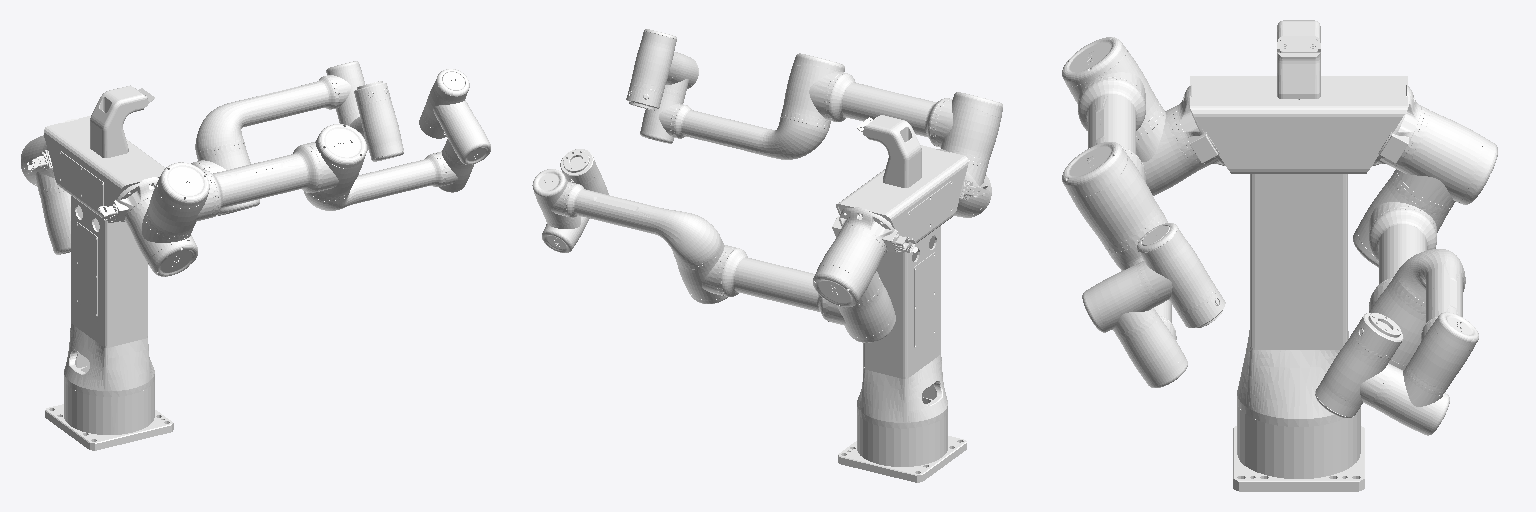
URDF robot description (dual_jaka_zu5):
<?xml version="1.0" encoding="utf-8"?>
<!-- =================================================================================== -->
<!-- |    This document was autogenerated by xacro from dual_zu5.xacro                 | -->
<!-- |    EDITING THIS FILE BY HAND IS NOT RECOMMENDED                                 | -->
<!-- =================================================================================== -->
<robot name="dual_jaka_zu5">
  <!-- DUAL ZU5 -->
  <link name="world"/>
  <joint name="world_joint" type="fixed">
    <parent link="world"/>
    <child link="base_footprint"/>
    <origin rpy="0 0 0" xyz="0 0 0"/>
  </joint>
  <link name="base_footprint">
    <!--
    <xacro:box_inertial_matrix m="200" w ="1" h="0.01" d="1" />
    <visual>
      <origin xyz="0 0 0" rpy="0 0 0" />
      <geometry>
        <box size = "1 1 0.01" />
      </geometry>
      <material name="" />
    </visual>
    <collision>
        <geometry>
          <box size="0 0 0"/>
        </geometry>
        <origin rpy="0 0 0" xyz="0 0 0"/>
      </collision>
-->
  </link>
  <link name="arm_body_link">
    <inertial>
      <origin rpy="0 0 0" xyz="0.0023805 -8.69209997657022E-09 0.38265"/>
      <mass value="26.908"/>
      <inertia ixx="1.9969" ixy="5.78330000000082E-06" ixz="-0.013305" iyy="1.9121" iyz="-9.59990001016968E-08" izz="0.25121"/>
    </inertial>
    <visual>
      <origin rpy="1.5707963267949 0 0" xyz="0 0 0"/>
      <geometry>
        <mesh filename="package://jaka_description/meshes/dual_arm_body.STL"/>
      </geometry>
      <material name="">
        <color rgba="1 1 1 1"/>
      </material>
    </visual>
    <collision>
        <origin rpy="0 0 0.43" xyz="0 0 0"/>
        <geometry>
            <box size="0.17 0.15 0.86" />
        </geometry>
    </collision>
<!--
    <collision>
      <origin rpy="1.5707963267949 0 0" xyz="0 0 0"/>
      <geometry>
        <mesh filename="package://jaka_description/meshes/dual_arm_body.STL"/>
      </geometry>
    </collision>
-->
  </link>
  <joint name="arm_body_joint" type="fixed">
    <origin rpy="0 0 0" xyz="0 0 0"/>
    <parent link="base_footprint"/>
    <child link="arm_body_link"/>
  </joint>
  <gazebo reference="arm_body_link">
    <material>Gazebo/Green</material>
    <turnGravityOff>false</turnGravityOff>
  </gazebo>
  <link name="l_arm_base_link">
    <inertial>
      <origin rpy="0 0 0" xyz="0.00096495 6.33210000011972E-08 0.019553"/>
      <mass value="0.5146"/>
      <inertia ixx="0.00062137" ixy="-1.25310000000002E-08" ixz="3.2162E-06" iyy="0.00086635" iyz="1.01950000029785E-10" izz="0.0013528"/>
    </inertial>
    <visual>
      <origin rpy="1.5707963267949 0 0" xyz="0 0 0"/>
      <geometry>
        <mesh filename="package://jaka_description/meshes/jaka_zu5_meshes/link_0.STL"/>
      </geometry>
      <material name="">
        <color rgba="1 1 1 1"/>
      </material>
    </visual>
    <collision>
      <origin rpy="1.5707963267949 0 0" xyz="0 0 0"/>
      <geometry>
        <mesh filename="package://jaka_description/meshes/jaka_zu5_meshes/link_0.STL"/>
      </geometry>
    </collision>
  </link>
  <joint name="l_arm_base_joint" type="fixed">
    <origin rpy="-1.047 3.1415926 0" xyz="0 0.149 0.65"/>
    <parent link="arm_body_link"/>
    <child link="l_arm_base_link"/>
    <axis xyz="0 0 0"/>
  </joint>
  <link name="l_shoulder_pan_link">
    <inertial>
      <origin rpy="0 0 0" xyz="5.1683E-07 -0.0033223 -0.001511"/>
      <mass value="1.9282"/>
      <inertia ixx="0.0056433" ixy="5.7032E-08" ixz="-6.2225E-08" iyy="0.0054898" iyz="2.0134999999999E-06" izz="0.0038887"/>
    </inertial>
    <visual>
      <origin rpy="1.5707963267949 0 0" xyz="0 0 0"/>
      <geometry>
        <mesh filename="package://jaka_description/meshes/jaka_zu5_meshes/link_1.STL"/>
      </geometry>
      <material name="">
        <color rgba="1 1 1 1"/>
      </material>
    </visual>
    <collision>
      <origin rpy="1.5707963267949 0 0" xyz="0 0 0"/>
      <geometry>
        <mesh filename="package://jaka_description/meshes/jaka_zu5_meshes/link_1.STL"/>
      </geometry>
    </collision>
  </link>
  <joint name="l_shoulder_pan_joint" type="continuous">
    <origin rpy="0 0 0" xyz="0 0 0.12015"/>
    <parent link="l_arm_base_link"/>
    <child link="l_shoulder_pan_link"/>
    <axis xyz="0 0 1"/>
    <limit effort="49" lower="-3" upper="3" velocity="1"/>
  </joint>
  <link name="l_shoulder_lift_link">
    <inertial>
      <origin rpy="0 0 0" xyz="-0.215 -2.05689999912349E-08 0.14315"/>
      <mass value="5.8409"/>
      <inertia ixx="0.013221" ixy="4.5164E-07" ixz="-4.5411E-08" iyy="0.20339" iyz="-3.02220000002149E-08" izz="0.19988"/>
    </inertial>
    <visual>
      <origin rpy="1.5707963267949 0 0" xyz="0 0 0"/>
      <geometry>
        <mesh filename="package://jaka_description/meshes/jaka_zu5_meshes/link_2.STL"/>
      </geometry>
      <material name="">
        <color rgba="1 1 1 1"/>
      </material>
    </visual>
    <collision>
      <origin rpy="1.5707963267949 0 0" xyz="0 0 0"/>
      <geometry>
        <mesh filename="package://jaka_description/meshes/jaka_zu5_meshes/link_2.STL"/>
      </geometry>
    </collision>
  </link>
  <joint name="l_shoulder_lift_joint" type="continuous">
    <origin rpy="1.57079 0 0" xyz="0 0 0"/>
    <parent link="l_shoulder_pan_link"/>
    <child link="l_shoulder_lift_link"/>
    <axis xyz="0 0 -1"/>
    <limit effort="49" lower="-3" upper="3" velocity="1"/>
  </joint>
  <link name="l_elbow_link">
    <inertial>
      <origin rpy="0 0 0" xyz="-0.19088 -3.84559999999352E-07 0.010588"/>
      <mass value="2.3018"/>
      <inertia ixx="0.0028116" ixy="2.56400000000176E-07" ixz="-0.0028806" iyy="0.053035" iyz="-6.48900000004372E-09" izz="0.052321"/>
    </inertial>
    <visual>
      <origin rpy="1.5707963267949 0 0" xyz="0 0 0"/>
      <geometry>
        <mesh filename="package://jaka_description/meshes/jaka_zu5_meshes/link_3.STL"/>
      </geometry>
      <material name="">
        <color rgba="1 1 1 1"/>
      </material>
    </visual>
    <collision>
      <origin rpy="1.5707963267949 0 0" xyz="0 0 0"/>
      <geometry>
        <mesh filename="package://jaka_description/meshes/jaka_zu5_meshes/link_3.STL"/>
      </geometry>
    </collision>
  </link>
  <joint name="l_elbow_joint" type="continuous">
    <origin rpy="0 0 0" xyz="-0.430 0 0"/>
    <parent link="l_shoulder_lift_link"/>
    <child link="l_elbow_link"/>
    <axis xyz="0 0 -1"/>
    <limit effort="49" lower="-3" upper="3" velocity="1"/>
  </joint>
  <link name="l_wrist_1_link">
    <inertial>
      <origin rpy="0 0 0" xyz="4.1023E-07 -0.0057996 -0.0026718"/>
      <mass value="0.70739"/>
      <inertia ixx="0.0011791" ixy="5.5084E-09" ixz="1.4807E-09" iyy="0.00066568" iyz="-1.0639E-05" izz="0.0011425"/>
    </inertial>
    <visual>
      <origin rpy="1.5707963267949 0 0" xyz="0 0 0"/>
      <geometry>
        <mesh filename="package://jaka_description/meshes/jaka_zu5_meshes/link_4.STL"/>
      </geometry>
      <material name="">
        <color rgba="1 1 1 1"/>
      </material>
    </visual>
    <collision>
      <origin rpy="1.5707963267949 0 0" xyz="0 0 0"/>
      <geometry>
        <mesh filename="package://jaka_description/meshes/jaka_zu5_meshes/link_4.STL"/>
      </geometry>
    </collision>
  </link>
  <joint name="l_wrist_1_joint" type="continuous">
    <origin rpy="0 0 0" xyz="-0.3685 0 0.114"/>
    <parent link="l_elbow_link"/>
    <child link="l_wrist_1_link"/>
    <axis xyz="0 0 -1"/>
    <limit effort="11" lower="-3" upper="3" velocity="1"/>
  </joint>
  <link name="l_wrist_2_link">
    <inertial>
      <origin rpy="0 0 0" xyz="-3.0743E-08 -0.0028896 -0.0023422"/>
      <mass value="0.80693"/>
      <inertia ixx="0.001655" ixy="1.0299E-08" ixz="-1.2235E-08" iyy="0.0007447" iyz="-5.79109999999995E-06" izz="0.0016178"/>
    </inertial>
    <visual>
      <origin rpy="1.5707963267949 0 0" xyz="0 0 0"/>
      <geometry>
        <mesh filename="package://jaka_description/meshes/jaka_zu5_meshes/link_5.STL"/>
      </geometry>
      <material name="">
        <color rgba="1 1 1 1"/>
      </material>
    </visual>
    <collision>
      <origin rpy="1.5707963267949 0 0" xyz="0 0 0"/>
      <geometry>
        <mesh filename="package://jaka_description/meshes/jaka_zu5_meshes/link_5.STL"/>
      </geometry>
    </collision>
  </link>
  <joint name="l_wrist_2_joint" type="continuous">
    <origin rpy="1.57079 3.1415926 0" xyz="0 -0.1135 0"/>
    <parent link="l_wrist_1_link"/>
    <child link="l_wrist_2_link"/>
    <axis xyz="0 0 1"/>
    <limit effort="11" lower="-3" upper="3" velocity="1"/>
  </joint>
  <link name="l_wrist_3_link">
    <inertial>
      <origin rpy="0 0 0" xyz="-2.7624E-05 1.34819999999987E-05 -0.021245"/>
      <mass value="0.1805"/>
      <inertia ixx="9.1533E-05" ixy="-8.8776E-08" ixz="8.1265E-08" iyy="9.2197E-05" iyz="1.05880000000003E-07" izz="0.00014442"/>
    </inertial>
    <visual>
      <origin rpy="1.5707963267949 0 0" xyz="0 0 0"/>
      <geometry>
        <mesh filename="package://jaka_description/meshes/jaka_zu5_meshes/link_6.STL"/>
      </geometry>
      <material name="">
        <color rgba="1 1 1 1"/>
      </material>
    </visual>
    <collision>
      <origin rpy="1.5707963267949 0 0" xyz="0 0 0"/>
      <geometry>
        <mesh filename="package://jaka_description/meshes/jaka_zu5_meshes/link_6.STL"/>
      </geometry>
    </collision>
  </link>
  <joint name="l_wrist_3_joint" type="continuous">
    <origin rpy="-1.57079 0 0" xyz="0 0.107 0"/>
    <parent link="l_wrist_2_link"/>
    <child link="l_wrist_3_link"/>
    <axis xyz="0 0 1"/>
    <limit effort="11" lower="-3" upper="3" velocity="1"/>
  </joint>
  <transmission name="l_shoulder_pan_joint_trans">
    <type>transmission_interface/SimpleTransmission</type>
    <joint name="l_shoulder_pan_joint">
      <hardwareInterface>hardware_interface/PositionJointInterface</hardwareInterface>
    </joint>
    <actuator name="l_shoulder_pan_joint_motor">
      <hardwareInterface>hardware_interface/PositionJointInterface</hardwareInterface>
      <mechanicalReduction>1</mechanicalReduction>
    </actuator>
  </transmission>
  <transmission name="l_shoulder_lift_joint_trans">
    <type>transmission_interface/SimpleTransmission</type>
    <joint name="l_shoulder_lift_joint">
      <hardwareInterface>hardware_interface/PositionJointInterface</hardwareInterface>
    </joint>
    <actuator name="l_shoulder_lift_joint_motor">
      <hardwareInterface>hardware_interface/PositionJointInterface</hardwareInterface>
      <mechanicalReduction>1</mechanicalReduction>
    </actuator>
  </transmission>
  <transmission name="l_elbow_joint_trans">
    <type>transmission_interface/SimpleTransmission</type>
    <joint name="l_elbow_joint">
      <hardwareInterface>hardware_interface/PositionJointInterface</hardwareInterface>
    </joint>
    <actuator name="l_elbow_joint_motor">
      <hardwareInterface>hardware_interface/PositionJointInterface</hardwareInterface>
      <mechanicalReduction>1</mechanicalReduction>
    </actuator>
  </transmission>
  <transmission name="l_wrist_1_joint_trans">
    <type>transmission_interface/SimpleTransmission</type>
    <joint name="l_wrist_1_joint">
      <hardwareInterface>hardware_interface/PositionJointInterface</hardwareInterface>
    </joint>
    <actuator name="l_wrist_1_joint_motor">
      <hardwareInterface>hardware_interface/PositionJointInterface</hardwareInterface>
      <mechanicalReduction>1</mechanicalReduction>
    </actuator>
  </transmission>
  <transmission name="l_wrist_2_joint_trans">
    <type>transmission_interface/SimpleTransmission</type>
    <joint name="l_wrist_2_joint">
      <hardwareInterface>hardware_interface/PositionJointInterface</hardwareInterface>
    </joint>
    <actuator name="l_wrist_2_joint_motor">
      <hardwareInterface>hardware_interface/PositionJointInterface</hardwareInterface>
      <mechanicalReduction>1</mechanicalReduction>
    </actuator>
  </transmission>
  <transmission name="l_wrist_3_joint_trans">
    <type>transmission_interface/SimpleTransmission</type>
    <joint name="l_wrist_3_joint">
      <hardwareInterface>hardware_interface/PositionJointInterface</hardwareInterface>
    </joint>
    <actuator name="l_wrist_3_joint_motor">
      <hardwareInterface>hardware_interface/PositionJointInterface</hardwareInterface>
      <mechanicalReduction>1</mechanicalReduction>
    </actuator>
  </transmission>
  <!-- ros_control plugin -->
  <gazebo>
    <plugin filename="libgazebo_ros_control.so" name="gazebo_ros_control">
      <robotNamespace>/l_zu5</robotNamespace>
      <robotSimType>gazebo_ros_control/DefaultRobotHWSim</robotSimType>
      <legacyModeNS>true</legacyModeNS>
    </plugin>
  </gazebo>
  <link name="r_arm_base_link">
    <inertial>
      <origin rpy="0 0 0" xyz="0.00096495 6.33210000011972E-08 0.019553"/>
      <mass value="0.5146"/>
      <inertia ixx="0.00062137" ixy="-1.25310000000002E-08" ixz="3.2162E-06" iyy="0.00086635" iyz="1.01950000029785E-10" izz="0.0013528"/>
    </inertial>
    <visual>
      <origin rpy="1.5707963267949 0 0" xyz="0 0 0"/>
      <geometry>
        <mesh filename="package://jaka_description/meshes/jaka_zu5_meshes/link_0.STL"/>
      </geometry>
      <material name="">
        <color rgba="1 1 1 1"/>
      </material>
    </visual>
    <collision>
      <origin rpy="1.5707963267949 0 0" xyz="0 0 0"/>
      <geometry>
        <mesh filename="package://jaka_description/meshes/jaka_zu5_meshes/link_0.STL"/>
      </geometry>
    </collision>
  </link>
  <joint name="r_arm_base_joint" type="fixed">
    <origin rpy="1.047 3.1415926 0" xyz="0 -0.149 0.65"/>
    <parent link="arm_body_link"/>
    <child link="r_arm_base_link"/>
    <axis xyz="0 0 0"/>
  </joint>
  <link name="r_shoulder_pan_link">
    <inertial>
      <origin rpy="0 0 0" xyz="5.1683E-07 -0.0033223 -0.001511"/>
      <mass value="1.9282"/>
      <inertia ixx="0.0056433" ixy="5.7032E-08" ixz="-6.2225E-08" iyy="0.0054898" iyz="2.0134999999999E-06" izz="0.0038887"/>
    </inertial>
    <visual>
      <origin rpy="1.5707963267949 0 0" xyz="0 0 0"/>
      <geometry>
        <mesh filename="package://jaka_description/meshes/jaka_zu5_meshes/link_1.STL"/>
      </geometry>
      <material name="">
        <color rgba="1 1 1 1"/>
      </material>
    </visual>
    <collision>
      <origin rpy="1.5707963267949 0 0" xyz="0 0 0"/>
      <geometry>
        <mesh filename="package://jaka_description/meshes/jaka_zu5_meshes/link_1.STL"/>
      </geometry>
    </collision>
  </link>
  <joint name="r_shoulder_pan_joint" type="continuous">
    <origin rpy="0 0 0" xyz="0 0 0.12015"/>
    <parent link="r_arm_base_link"/>
    <child link="r_shoulder_pan_link"/>
    <axis xyz="0 0 1"/>
    <limit effort="49" lower="-3" upper="3" velocity="1"/>
  </joint>
  <link name="r_shoulder_lift_link">
    <inertial>
      <origin rpy="0 0 0" xyz="-0.215 -2.05689999912349E-08 0.14315"/>
      <mass value="5.8409"/>
      <inertia ixx="0.013221" ixy="4.5164E-07" ixz="-4.5411E-08" iyy="0.20339" iyz="-3.02220000002149E-08" izz="0.19988"/>
    </inertial>
    <visual>
      <origin rpy="1.5707963267949 0 0" xyz="0 0 0"/>
      <geometry>
        <mesh filename="package://jaka_description/meshes/jaka_zu5_meshes/link_2.STL"/>
      </geometry>
      <material name="">
        <color rgba="1 1 1 1"/>
      </material>
    </visual>
    <collision>
      <origin rpy="1.5707963267949 0 0" xyz="0 0 0"/>
      <geometry>
        <mesh filename="package://jaka_description/meshes/jaka_zu5_meshes/link_2.STL"/>
      </geometry>
    </collision>
  </link>
  <joint name="r_shoulder_lift_joint" type="continuous">
    <origin rpy="1.57079 0 0" xyz="0 0 0"/>
    <parent link="r_shoulder_pan_link"/>
    <child link="r_shoulder_lift_link"/>
    <axis xyz="0 0 -1"/>
    <limit effort="49" lower="-3" upper="3" velocity="1"/>
  </joint>
  <link name="r_elbow_link">
    <inertial>
      <origin rpy="0 0 0" xyz="-0.19088 -3.84559999999352E-07 0.010588"/>
      <mass value="2.3018"/>
      <inertia ixx="0.0028116" ixy="2.56400000000176E-07" ixz="-0.0028806" iyy="0.053035" iyz="-6.48900000004372E-09" izz="0.052321"/>
    </inertial>
    <visual>
      <origin rpy="1.5707963267949 0 0" xyz="0 0 0"/>
      <geometry>
        <mesh filename="package://jaka_description/meshes/jaka_zu5_meshes/link_3.STL"/>
      </geometry>
      <material name="">
        <color rgba="1 1 1 1"/>
      </material>
    </visual>
    <collision>
      <origin rpy="1.5707963267949 0 0" xyz="0 0 0"/>
      <geometry>
        <mesh filename="package://jaka_description/meshes/jaka_zu5_meshes/link_3.STL"/>
      </geometry>
    </collision>
  </link>
  <joint name="r_elbow_joint" type="continuous">
    <origin rpy="0 0 0" xyz="-0.430 0 0"/>
    <parent link="r_shoulder_lift_link"/>
    <child link="r_elbow_link"/>
    <axis xyz="0 0 -1"/>
    <limit effort="49" lower="-3" upper="3" velocity="1"/>
  </joint>
  <link name="r_wrist_1_link">
    <inertial>
      <origin rpy="0 0 0" xyz="4.1023E-07 -0.0057996 -0.0026718"/>
      <mass value="0.70739"/>
      <inertia ixx="0.0011791" ixy="5.5084E-09" ixz="1.4807E-09" iyy="0.00066568" iyz="-1.0639E-05" izz="0.0011425"/>
    </inertial>
    <visual>
      <origin rpy="1.5707963267949 0 0" xyz="0 0 0"/>
      <geometry>
        <mesh filename="package://jaka_description/meshes/jaka_zu5_meshes/link_4.STL"/>
      </geometry>
      <material name="">
        <color rgba="1 1 1 1"/>
      </material>
    </visual>
    <collision>
      <origin rpy="1.5707963267949 0 0" xyz="0 0 0"/>
      <geometry>
        <mesh filename="package://jaka_description/meshes/jaka_zu5_meshes/link_4.STL"/>
      </geometry>
    </collision>
  </link>
  <joint name="r_wrist_1_joint" type="continuous">
    <origin rpy="0 0 0" xyz="-0.3685 0 0.114"/>
    <parent link="r_elbow_link"/>
    <child link="r_wrist_1_link"/>
    <axis xyz="0 0 -1"/>
    <limit effort="11" lower="-3" upper="3" velocity="1"/>
  </joint>
  <link name="r_wrist_2_link">
    <inertial>
      <origin rpy="0 0 0" xyz="-3.0743E-08 -0.0028896 -0.0023422"/>
      <mass value="0.80693"/>
      <inertia ixx="0.001655" ixy="1.0299E-08" ixz="-1.2235E-08" iyy="0.0007447" iyz="-5.79109999999995E-06" izz="0.0016178"/>
    </inertial>
    <visual>
      <origin rpy="1.5707963267949 0 0" xyz="0 0 0"/>
      <geometry>
        <mesh filename="package://jaka_description/meshes/jaka_zu5_meshes/link_5.STL"/>
      </geometry>
      <material name="">
        <color rgba="1 1 1 1"/>
      </material>
    </visual>
    <collision>
      <origin rpy="1.5707963267949 0 0" xyz="0 0 0"/>
      <geometry>
        <mesh filename="package://jaka_description/meshes/jaka_zu5_meshes/link_5.STL"/>
      </geometry>
    </collision>
  </link>
  <joint name="r_wrist_2_joint" type="continuous">
    <origin rpy="1.57079 3.1415926 0" xyz="0 -0.1135 0"/>
    <parent link="r_wrist_1_link"/>
    <child link="r_wrist_2_link"/>
    <axis xyz="0 0 1"/>
    <limit effort="11" lower="-3" upper="3" velocity="1"/>
  </joint>
  <link name="r_wrist_3_link">
    <inertial>
      <origin rpy="0 0 0" xyz="-2.7624E-05 1.34819999999987E-05 -0.021245"/>
      <mass value="0.1805"/>
      <inertia ixx="9.1533E-05" ixy="-8.8776E-08" ixz="8.1265E-08" iyy="9.2197E-05" iyz="1.05880000000003E-07" izz="0.00014442"/>
    </inertial>
    <visual>
      <origin rpy="1.5707963267949 0 0" xyz="0 0 0"/>
      <geometry>
        <mesh filename="package://jaka_description/meshes/jaka_zu5_meshes/link_6.STL"/>
      </geometry>
      <material name="">
        <color rgba="1 1 1 1"/>
      </material>
    </visual>
    <collision>
      <origin rpy="1.5707963267949 0 0" xyz="0 0 0"/>
      <geometry>
        <mesh filename="package://jaka_description/meshes/jaka_zu5_meshes/link_6.STL"/>
      </geometry>
    </collision>
  </link>
  <joint name="r_wrist_3_joint" type="continuous">
    <origin rpy="-1.57079 0 0" xyz="0 0.107 0"/>
    <parent link="r_wrist_2_link"/>
    <child link="r_wrist_3_link"/>
    <axis xyz="0 0 1"/>
    <limit effort="11" lower="-3" upper="3" velocity="1"/>
  </joint>
  <transmission name="r_shoulder_pan_joint_trans">
    <type>transmission_interface/SimpleTransmission</type>
    <joint name="r_shoulder_pan_joint">
      <hardwareInterface>hardware_interface/PositionJointInterface</hardwareInterface>
    </joint>
    <actuator name="r_shoulder_pan_joint_motor">
      <hardwareInterface>hardware_interface/PositionJointInterface</hardwareInterface>
      <mechanicalReduction>1</mechanicalReduction>
    </actuator>
  </transmission>
  <transmission name="r_shoulder_lift_joint_trans">
    <type>transmission_interface/SimpleTransmission</type>
    <joint name="r_shoulder_lift_joint">
      <hardwareInterface>hardware_interface/PositionJointInterface</hardwareInterface>
    </joint>
    <actuator name="r_shoulder_lift_joint_motor">
      <hardwareInterface>hardware_interface/PositionJointInterface</hardwareInterface>
      <mechanicalReduction>1</mechanicalReduction>
    </actuator>
  </transmission>
  <transmission name="r_elbow_joint_trans">
    <type>transmission_interface/SimpleTransmission</type>
    <joint name="r_elbow_joint">
      <hardwareInterface>hardware_interface/PositionJointInterface</hardwareInterface>
    </joint>
    <actuator name="r_elbow_joint_motor">
      <hardwareInterface>hardware_interface/PositionJointInterface</hardwareInterface>
      <mechanicalReduction>1</mechanicalReduction>
    </actuator>
  </transmission>
  <transmission name="r_wrist_1_joint_trans">
    <type>transmission_interface/SimpleTransmission</type>
    <joint name="r_wrist_1_joint">
      <hardwareInterface>hardware_interface/PositionJointInterface</hardwareInterface>
    </joint>
    <actuator name="r_wrist_1_joint_motor">
      <hardwareInterface>hardware_interface/PositionJointInterface</hardwareInterface>
      <mechanicalReduction>1</mechanicalReduction>
    </actuator>
  </transmission>
  <transmission name="r_wrist_2_joint_trans">
    <type>transmission_interface/SimpleTransmission</type>
    <joint name="r_wrist_2_joint">
      <hardwareInterface>hardware_interface/PositionJointInterface</hardwareInterface>
    </joint>
    <actuator name="r_wrist_2_joint_motor">
      <hardwareInterface>hardware_interface/PositionJointInterface</hardwareInterface>
      <mechanicalReduction>1</mechanicalReduction>
    </actuator>
  </transmission>
  <transmission name="r_wrist_3_joint_trans">
    <type>transmission_interface/SimpleTransmission</type>
    <joint name="r_wrist_3_joint">
      <hardwareInterface>hardware_interface/PositionJointInterface</hardwareInterface>
    </joint>
    <actuator name="r_wrist_3_joint_motor">
      <hardwareInterface>hardware_interface/PositionJointInterface</hardwareInterface>
      <mechanicalReduction>1</mechanicalReduction>
    </actuator>
  </transmission>
  <!-- ros_control plugin -->
  <gazebo>
    <plugin filename="libgazebo_ros_control.so" name="gazebo_ros_control">
      <robotNamespace>/r_zu5</robotNamespace>
      <robotSimType>gazebo_ros_control/DefaultRobotHWSim</robotSimType>
      <legacyModeNS>true</legacyModeNS>
    </plugin>
  </gazebo>
</robot>

--- Render facts (derived) ---
The picture shows the robot from 3 angles, left to right: view 1: azimuth 30°, elevation 25°; view 2: azimuth 150°, elevation 25°; view 3: azimuth 270°, elevation 25°; orthographic projection.
Model dual_jaka_zu5 with 17 links and 16 joints (12 continuous, 4 fixed), rooted at world, posed every joint at zero.
Links seen in each view (by area): view 1: arm_body_link, r_shoulder_lift_link, l_elbow_link, r_elbow_link, l_shoulder_lift_link, r_shoulder_pan_link, l_wrist_2_link, r_wrist_1_link, r_wrist_2_link, r_arm_base_link, l_shoulder_pan_link, l_wrist_3_link; view 2: arm_body_link, r_shoulder_lift_link, l_shoulder_lift_link, l_elbow_link, r_elbow_link, l_shoulder_pan_link, r_wrist_2_link, l_arm_base_link, r_shoulder_pan_link, l_wrist_1_link, l_wrist_3_link, r_wrist_1_link (+1 smaller); view 3: arm_body_link, r_shoulder_lift_link, l_shoulder_lift_link, l_elbow_link, l_shoulder_pan_link, r_wrist_2_link, r_elbow_link, l_wrist_2_link, r_wrist_1_link, r_shoulder_pan_link, l_wrist_1_link, l_wrist_3_link (+3 smaller).
Link boxes in pixels (left/top/right/bottom): arm_body_link: left=44, top=85, right=173, bottom=450; r_shoulder_lift_link: left=146, top=124, right=366, bottom=240; l_elbow_link: left=195, top=61, right=364, bottom=152; r_elbow_link: left=304, top=144, right=473, bottom=210; l_shoulder_lift_link: left=39, top=141, right=259, bottom=254; r_shoulder_pan_link: left=126, top=197, right=197, bottom=276; l_wrist_2_link: left=357, top=96, right=403, bottom=161; r_wrist_1_link: left=439, top=104, right=490, bottom=164; r_wrist_2_link: left=422, top=69, right=469, bottom=130; r_arm_base_link: left=97, top=177, right=158, bottom=221; l_shoulder_pan_link: left=21, top=135, right=57, bottom=190; l_wrist_3_link: left=354, top=81, right=389, bottom=103; arm_body_link: left=836, top=115, right=968, bottom=482; r_shoulder_lift_link: left=781, top=53, right=1002, bottom=167; l_shoulder_lift_link: left=674, top=239, right=895, bottom=342; l_elbow_link: left=532, top=169, right=720, bottom=264; r_elbow_link: left=640, top=87, right=828, bottom=159; l_shoulder_pan_link: left=813, top=225, right=885, bottom=306; r_wrist_2_link: left=630, top=29, right=676, bottom=95; l_arm_base_link: left=832, top=207, right=917, bottom=253; r_shoulder_pan_link: left=954, top=163, right=991, bottom=217; l_wrist_1_link: left=542, top=216, right=589, bottom=252; l_wrist_3_link: left=560, top=149, right=596, bottom=183; r_wrist_1_link: left=665, top=52, right=698, bottom=92; arm_body_link: left=1190, top=20, right=1407, bottom=491; r_shoulder_lift_link: left=1062, top=37, right=1163, bottom=252; l_shoulder_lift_link: left=1353, top=169, right=1453, bottom=370; l_elbow_link: left=1397, top=249, right=1478, bottom=394; l_shoulder_pan_link: left=1389, top=106, right=1497, bottom=205; r_wrist_2_link: left=1137, top=223, right=1216, bottom=313; r_elbow_link: left=1108, top=215, right=1187, bottom=387; l_wrist_2_link: left=1315, top=330, right=1392, bottom=417; r_wrist_1_link: left=1082, top=261, right=1163, bottom=333; r_shoulder_pan_link: left=1136, top=106, right=1208, bottom=195; l_wrist_1_link: left=1368, top=364, right=1449, bottom=435; l_wrist_3_link: left=1355, top=313, right=1403, bottom=355.
Size in the robot's own frame: 0.9703 by 0.7585 by 0.855 metres.
15 mesh visuals loaded from 8 distinct referenced files (8 binary STL).
